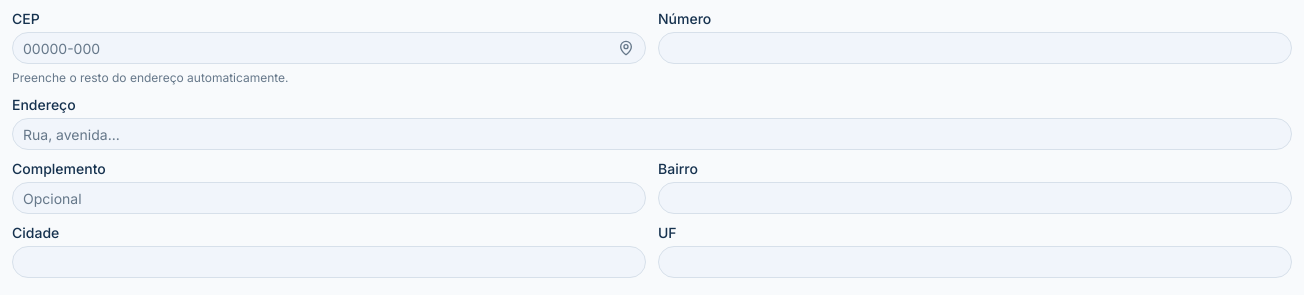
Test: AddressFields › clears the not-found message once the CEP is edited again
In the field labelled "CEP": (329,48) [12, 32, 646, 64], type "00000000"
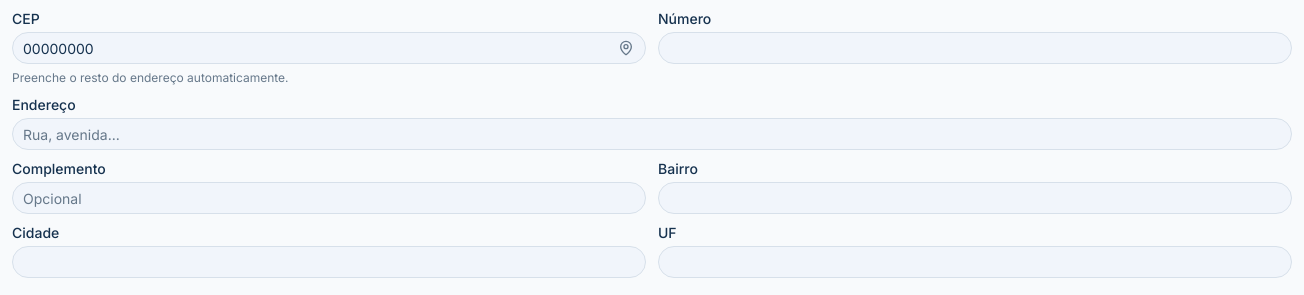
Leave the field labelled "CEP", box [12, 32, 646, 64]
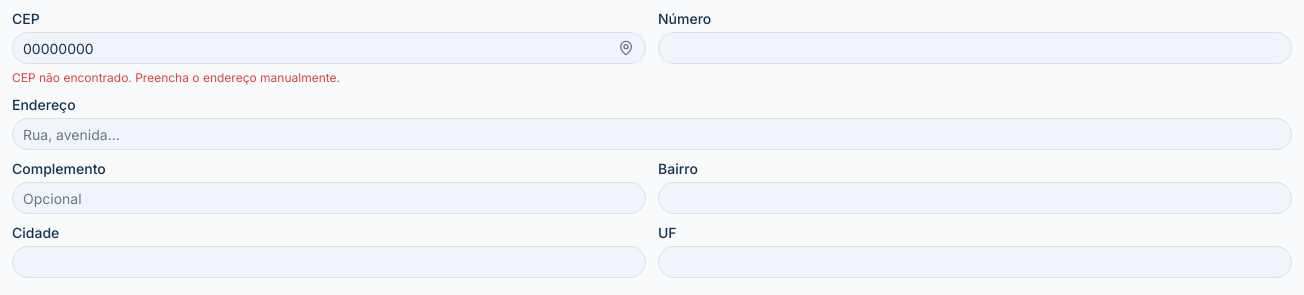
expect the text "CEP não encontrado. Preencha o endereço manualmente." is shown: met, box [12, 70, 340, 85]
Replace the text in the field labelled "CEP" with "01310930": (329,48) [12, 32, 646, 64]
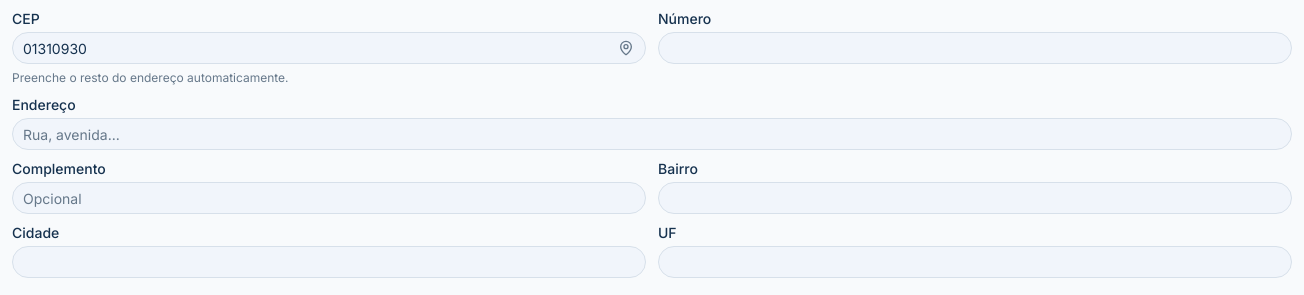
expect the text "CEP não encontrado. Preencha o endereço manualmente." is gone: met
